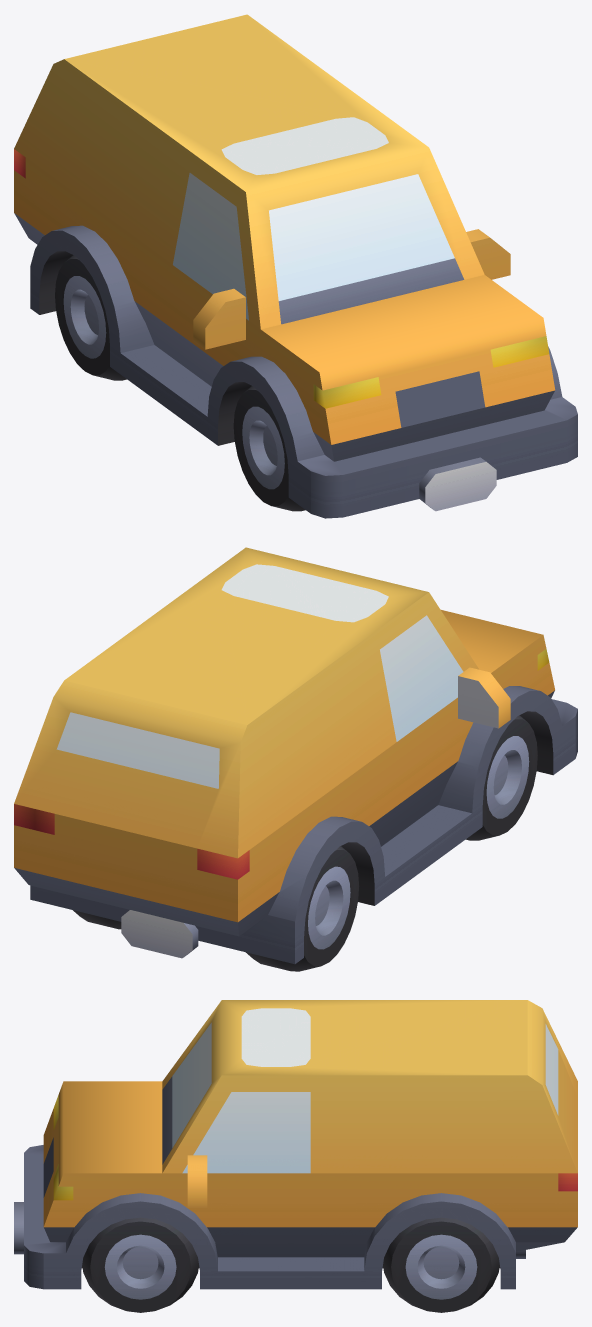
File: suv-luxury-transformed.glb
3 views of the same model, one above another, from view 1: azimuth 30°, elevation 25°; view 2: azimuth 150°, elevation 25°; view 3: azimuth 270°, elevation 25° (orthographic). The views are drawn at different scales.
Visible parts, largest first — view 1: wheel-back-right; view 2: wheel-back-right; view 3: wheel-back-right.
Boxes of the visible parts, bbox=[...] form: wheel-back-right: bbox=[14, 14, 577, 518]; wheel-back-right: bbox=[14, 547, 577, 971]; wheel-back-right: bbox=[14, 1000, 577, 1312].
Bounding box in the file's own units: 1.5 × 1.3 × 2.85.
Materials: 1 (1 with a texture image).
